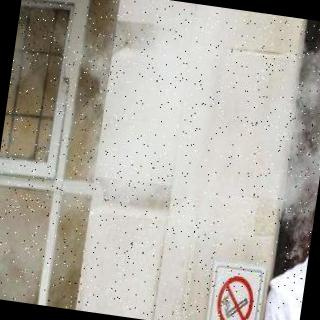smoke: (237, 36, 320, 272)
